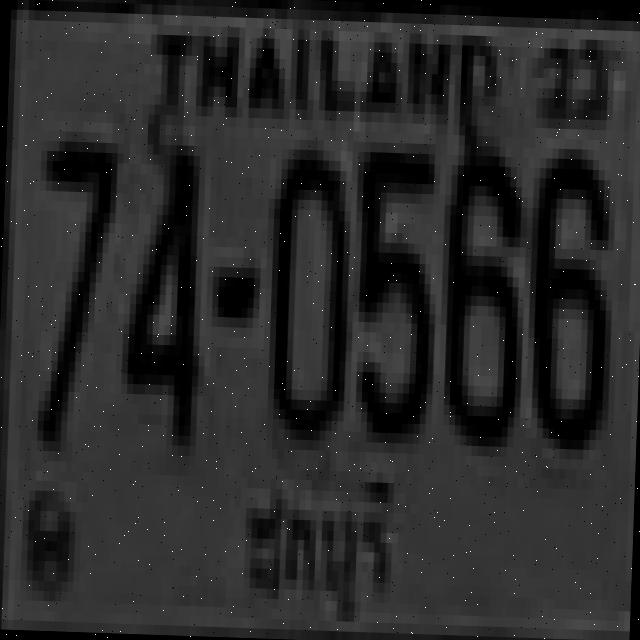0: (263, 144, 350, 436)
4: (119, 128, 200, 440)
5: (348, 142, 435, 434)
6: (436, 144, 523, 436), (524, 148, 611, 440)
7: (31, 130, 118, 442)
Chonburi: (222, 464, 398, 624)
